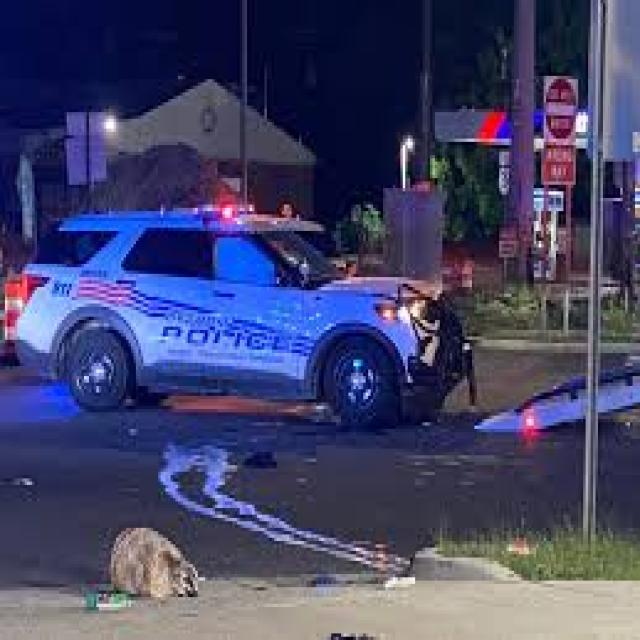cop: (16, 202, 471, 422)
